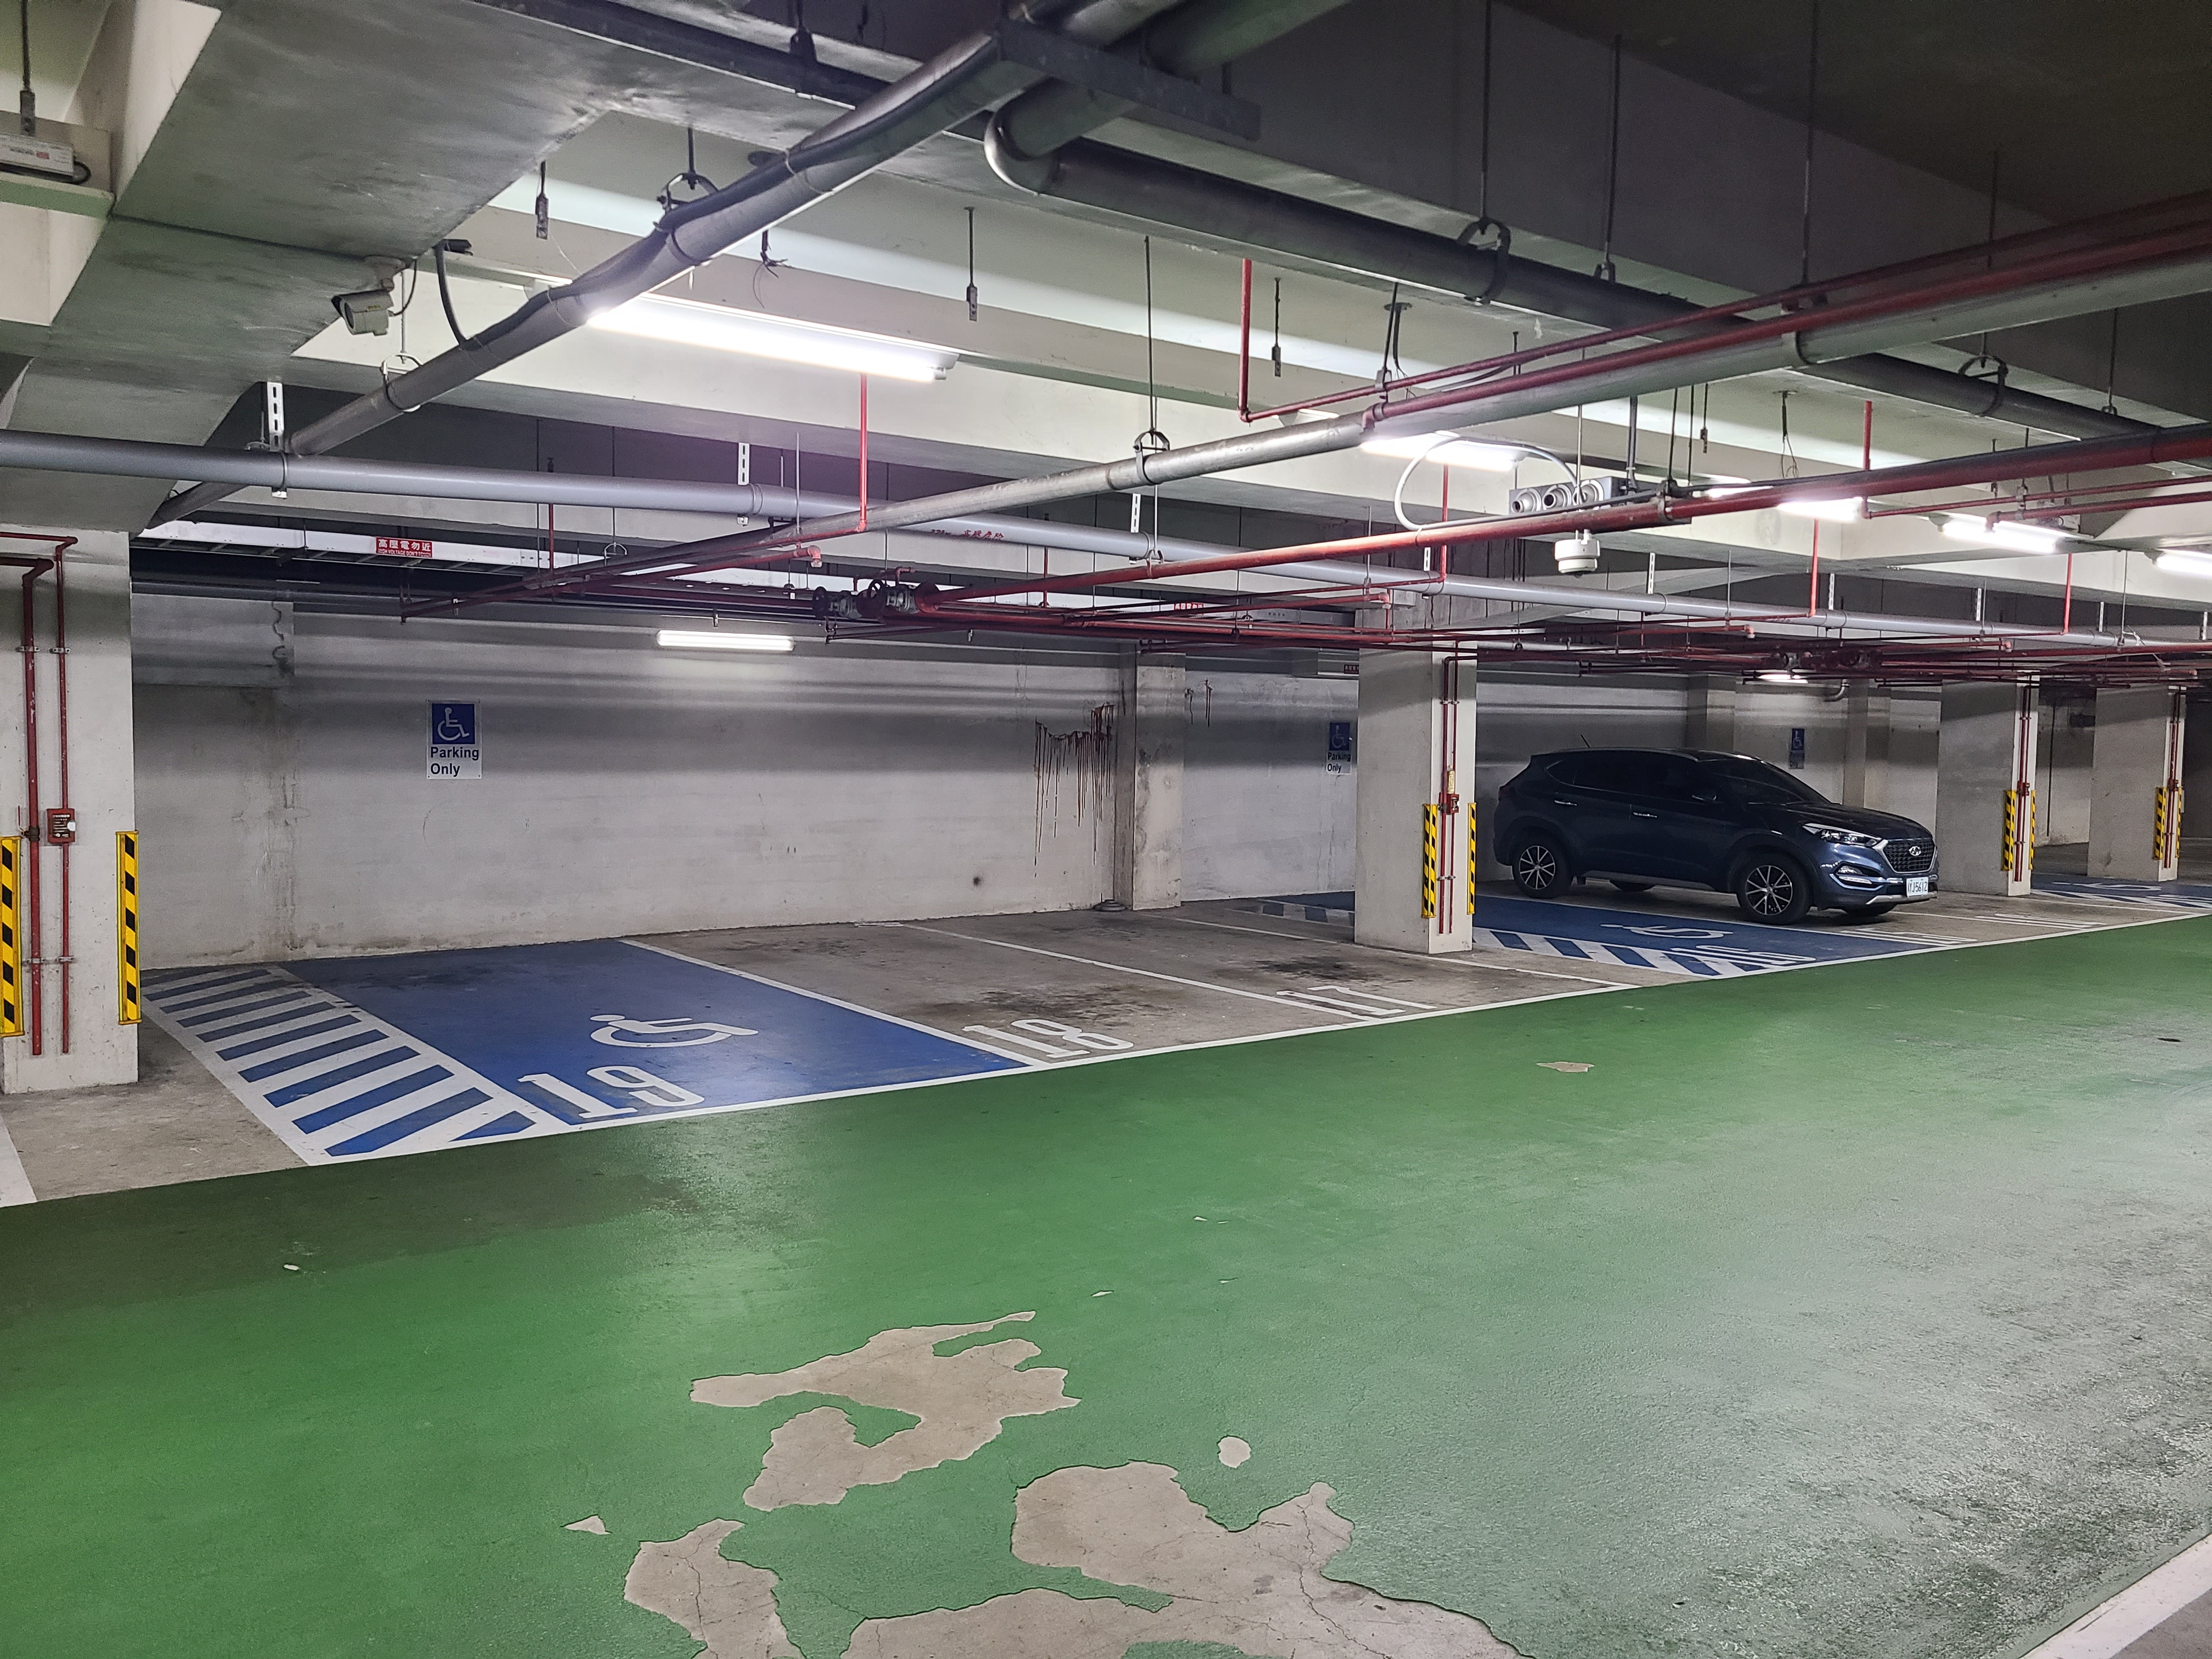CAR: (1487, 716, 1949, 927)
car: (1489, 737, 1946, 950)
